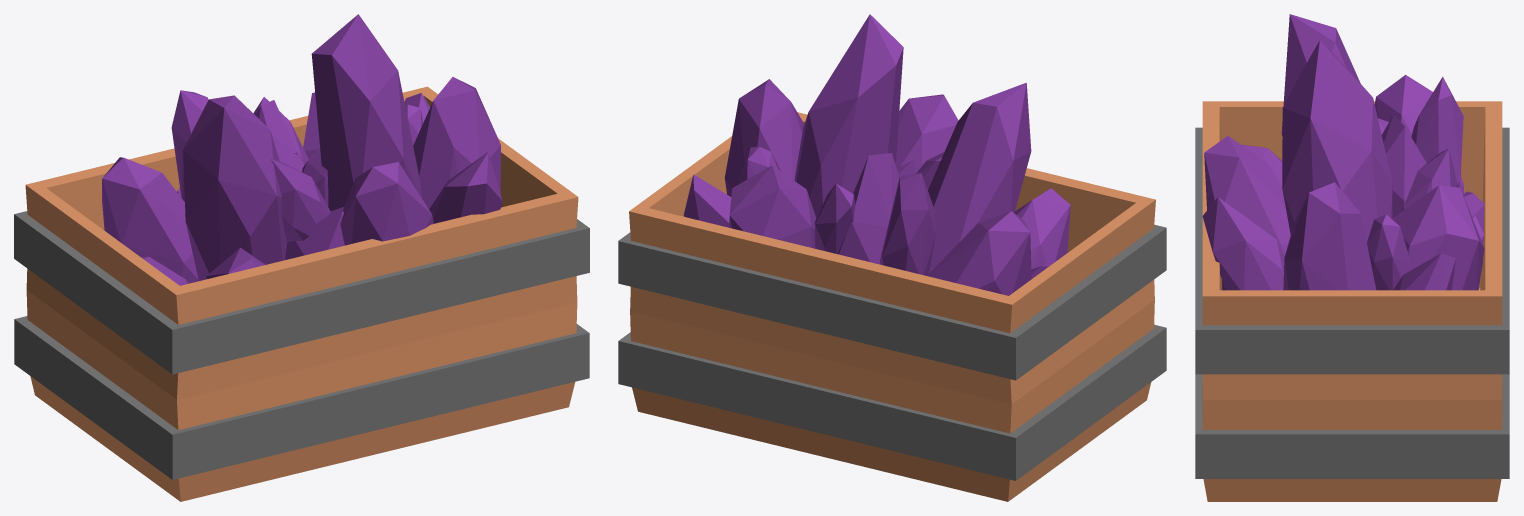
File: crystal_box.fbx
3 renders of one model, left to right at view 1: azimuth 30°, elevation 25°; view 2: azimuth 150°, elevation 25°; view 3: azimuth 270°, elevation 25°, orthographic. The views are drawn at different scales.
Parts seen in each view (by area): view 1: box, crystals; view 2: box, crystals; view 3: box, crystals.
Boxes of the visible parts, x1=… form: box: x1=14, y1=86, x2=589, y2=501; crystals: x1=102, y1=14, x2=502, y2=285; box: x1=618, y1=112, x2=1166, y2=501; crystals: x1=683, y1=14, x2=1070, y2=295; box: x1=1195, y1=101, x2=1509, y2=501; crystals: x1=1202, y1=14, x2=1484, y2=290.
Bounding box in the file's own units: 166 × 148 × 109.
Materials: 3 (3 with a texture image).
